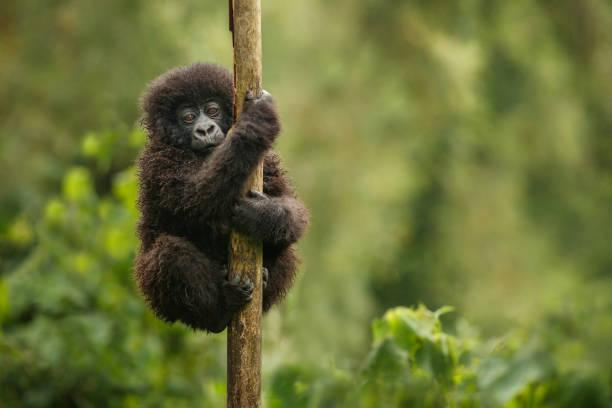goriile_montagne: (111, 24, 340, 363)
